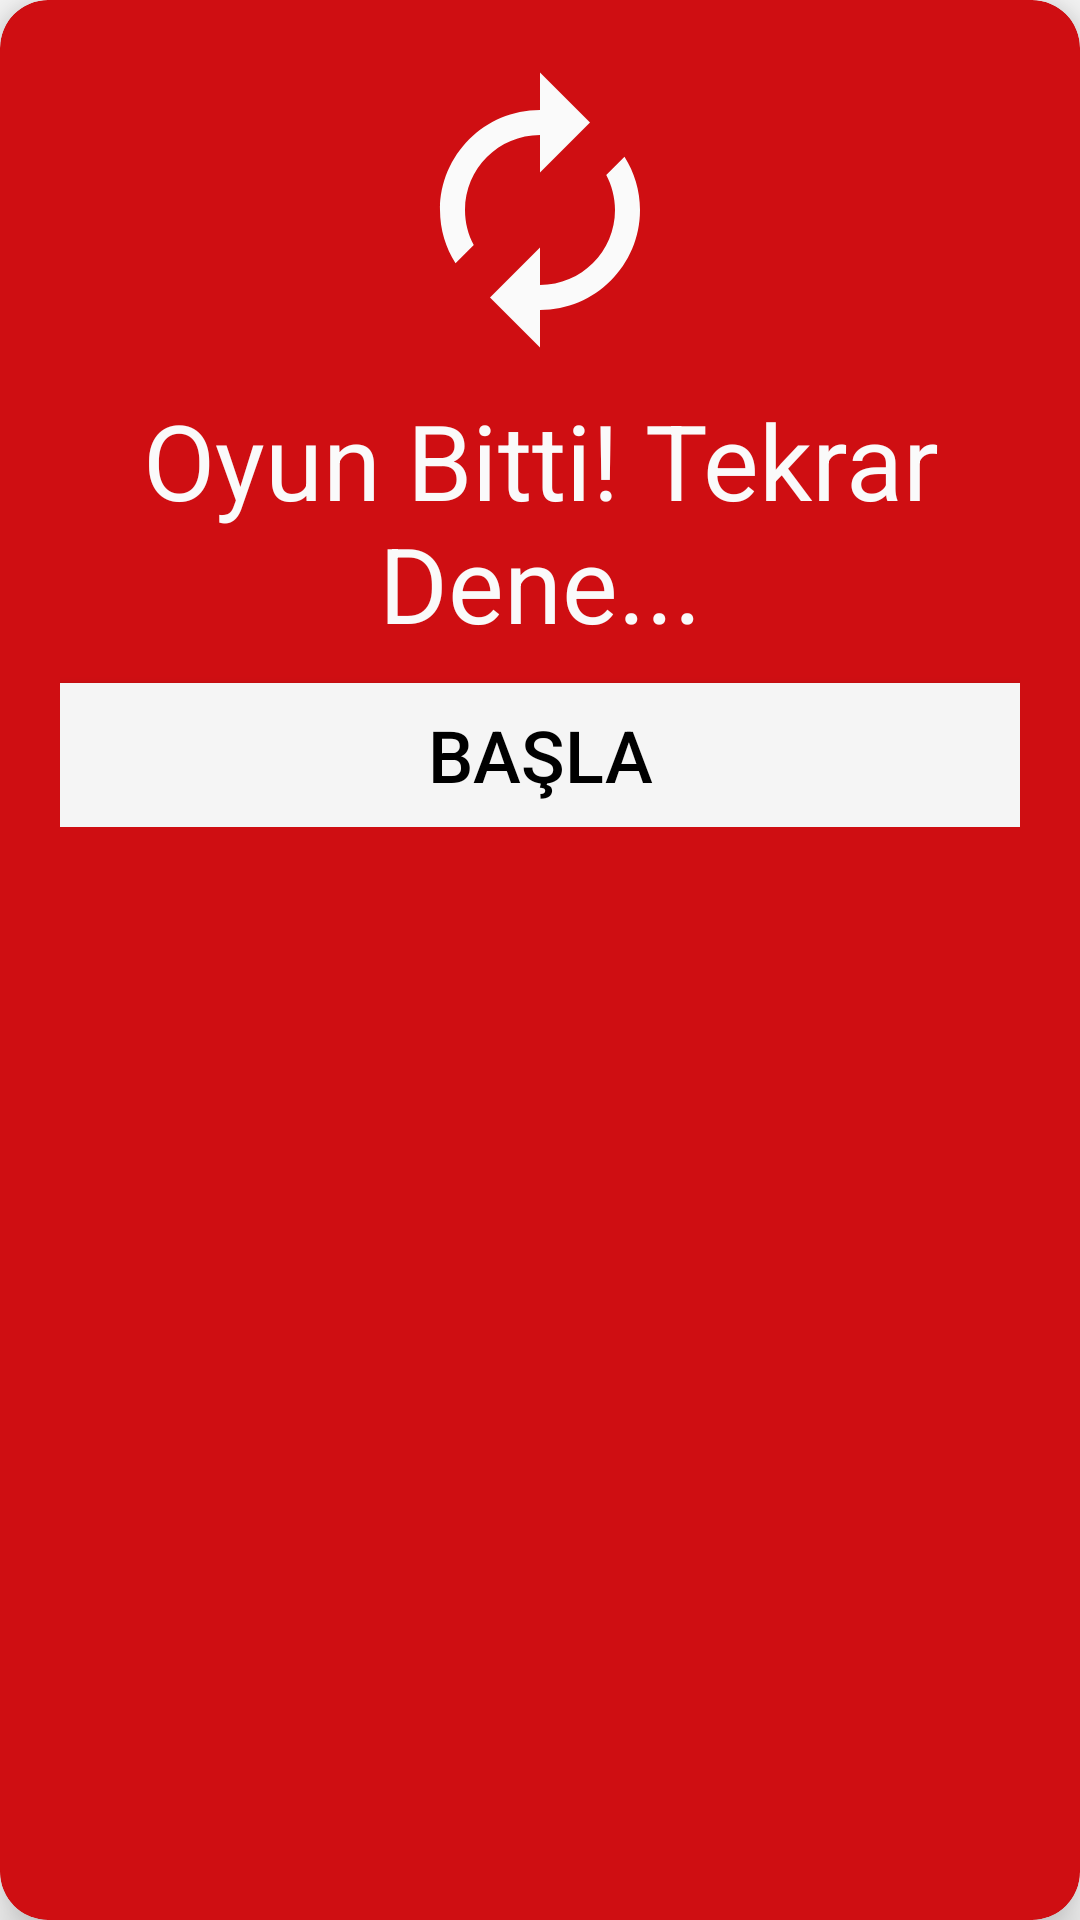

Named icons in this screenshot (1080 x 1920) and their centers, point (x, y):
autorenew: point (540, 210)
